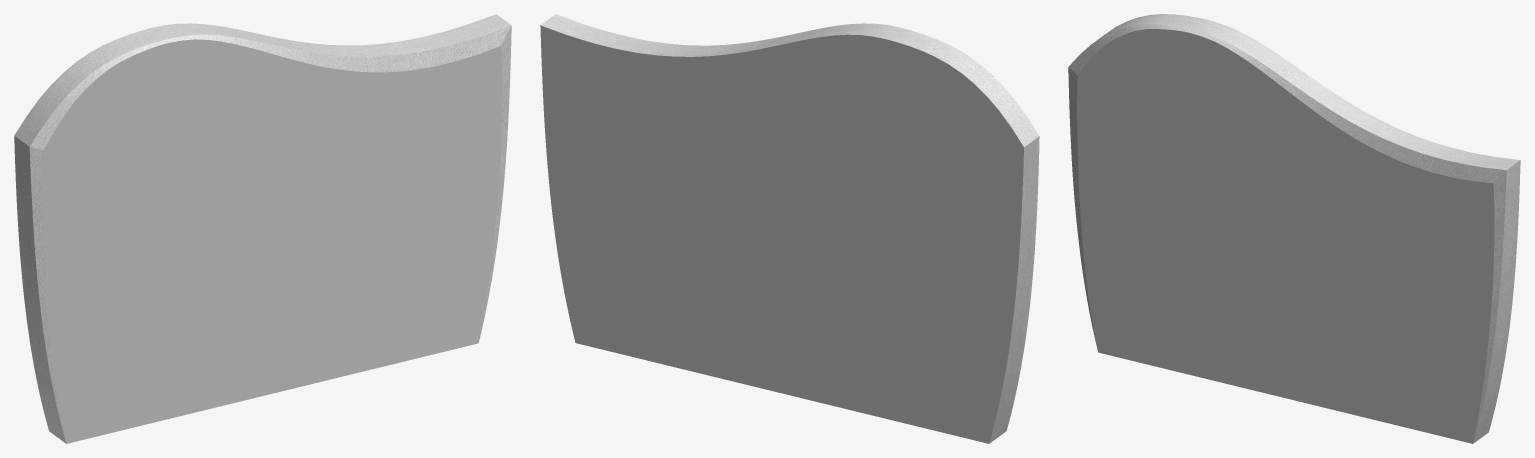
Rendered from cn2f441be697_tkf.glb.
3 renders of one model, left to right at view 1: azimuth 30°, elevation 25°; view 2: azimuth 150°, elevation 25°; view 3: azimuth 330°, elevation 25°, orthographic. The views are drawn at different scales.
Parts seen in each view (by area): view 1: Pam-g-033-3, Pam-g-033-3_2_notexture; view 2: Pam-g-033-3, Pam-g-033-3_2_notexture; view 3: Pam-g-033-3, Pam-g-033-3_2_notexture.
Boxes of the visible parts, x1,y1,x2,y2 form: Pam-g-033-3: (43, 39, 502, 443); Pam-g-033-3_2_notexture: (14, 14, 511, 443); Pam-g-033-3: (540, 25, 1023, 443); Pam-g-033-3_2_notexture: (541, 14, 1039, 443); Pam-g-033-3: (1077, 29, 1494, 443); Pam-g-033-3_2_notexture: (1068, 14, 1520, 443).
Bounding box in the file's own units: 0.8 × 0.6 × 0.05.
Materials: 1 (1 with a texture image).
